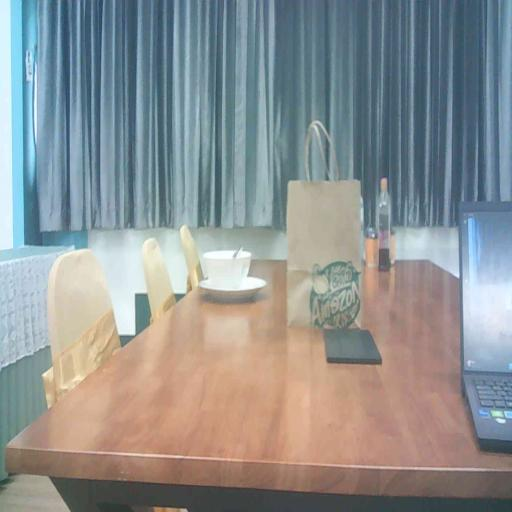bag: (285, 172, 363, 340)
